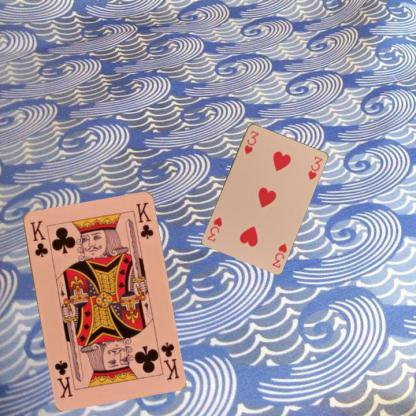3h: (270, 240, 288, 269), (242, 128, 260, 155)
Kc: (158, 339, 180, 381), (27, 218, 50, 258)
